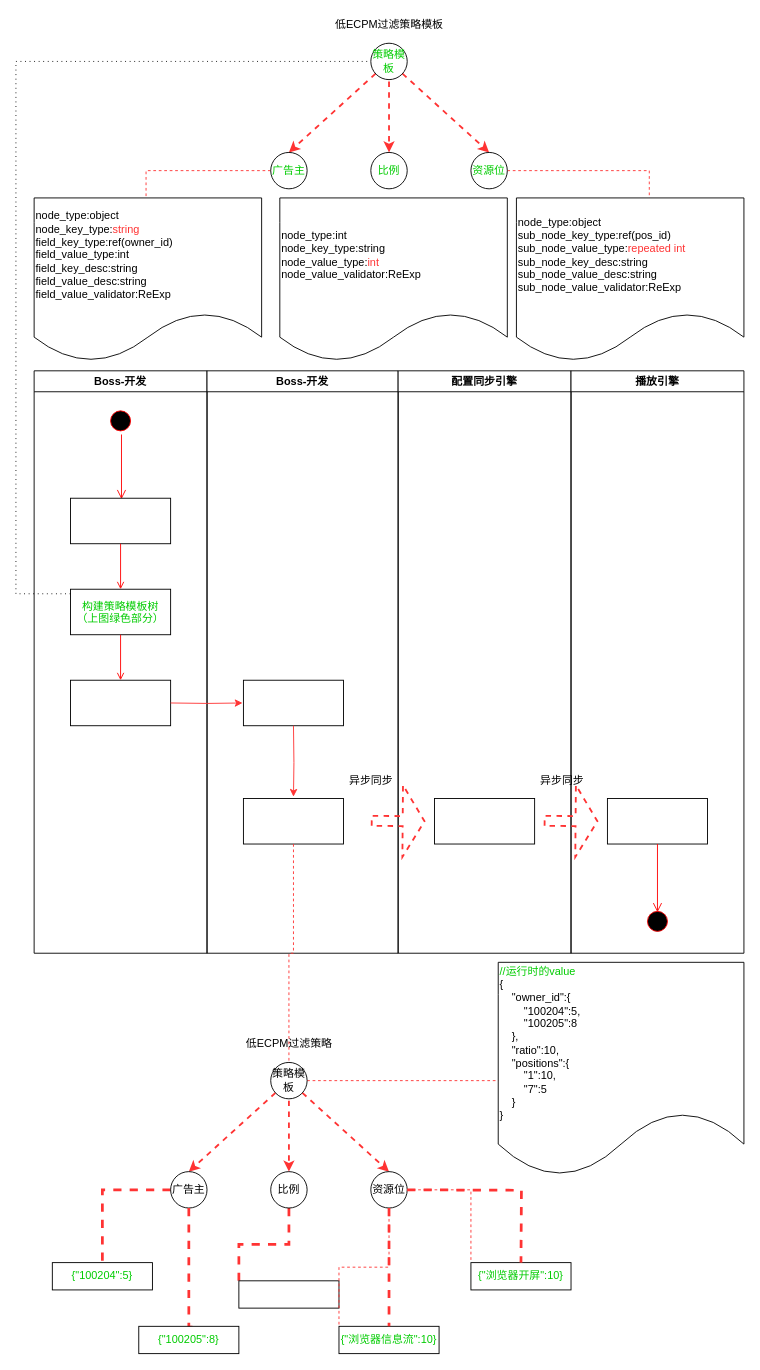
Some shapes in this 760 by 1370 pixel diagram are drawn without their labels. Here are the shapes that lost their labels. From the top down, the centre of each, then its label:
(120,520): 抽象策略需求
(120,702): 保存并通知产运
(293,702): 根据策略ID 打开策略模板树
(293,821): 选择可编辑维度, 新增/修改纬度值 (下图绿色部分)
(484,821): 同步redis/kafka
(657,821): COW更新配置
(288,1294): "ratio": 10
